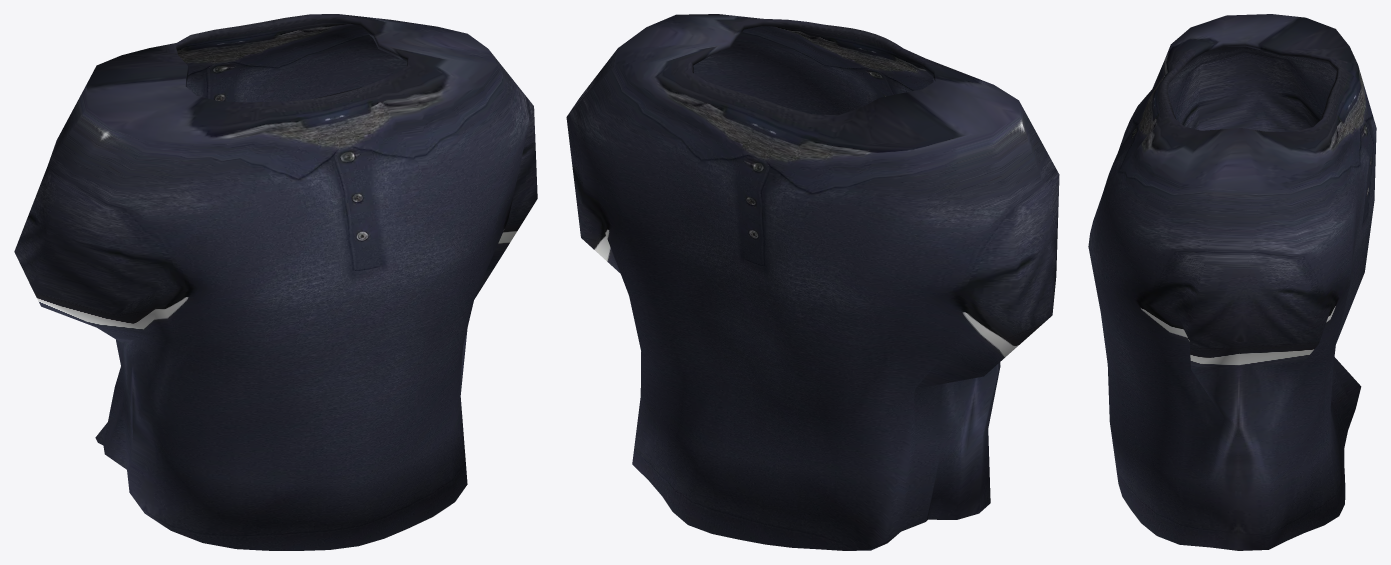
Rendered from 2f6815a2-d3e1-4604-9ba2-04cfd1058a38.glb.
The picture shows the model from 3 angles, left to right: view 1: azimuth 30°, elevation 25°; view 2: azimuth 150°, elevation 25°; view 3: azimuth 270°, elevation 25°; orthographic projection. The views are drawn at different scales.
Visible parts, largest first — view 1: garment; view 2: garment; view 3: garment.
Boxes of the visible parts, left/top/right/bottom form: garment: left=14, top=14, right=537, bottom=550; garment: left=566, top=14, right=1059, bottom=550; garment: left=1088, top=14, right=1376, bottom=550.
Size of the model in its own units: 0.564 by 0.4944 by 0.3242.
Materials: 1 (1 with a texture image).
